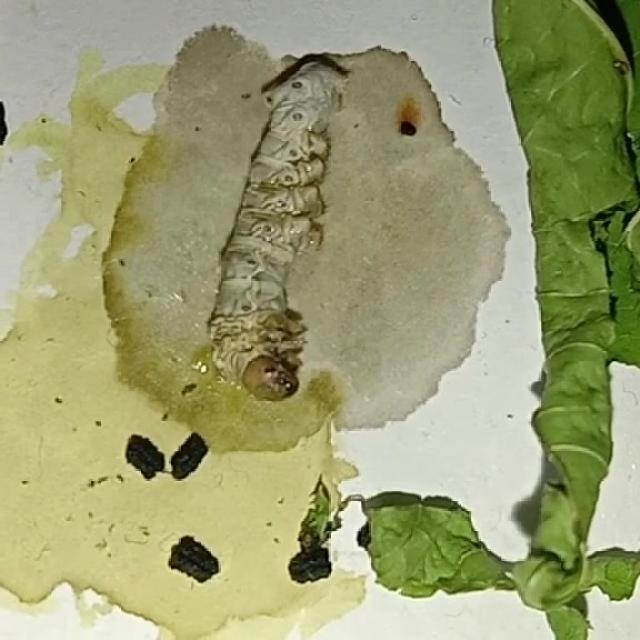Grasserie: (201, 50, 374, 408)
